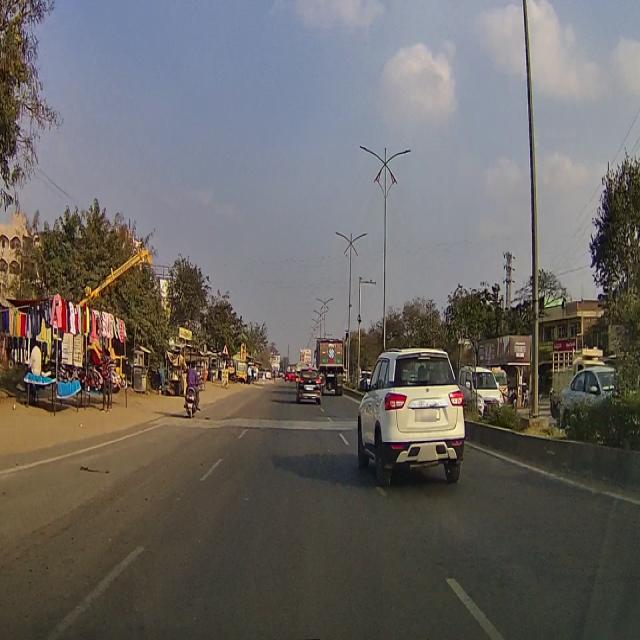side-road-left: (223, 344, 228, 354)
